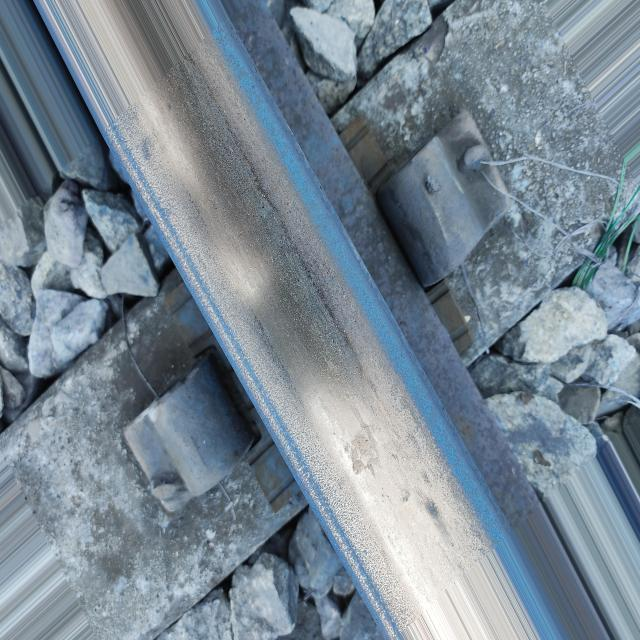Missing Fastener: (368, 82, 530, 286), (107, 345, 256, 535)
